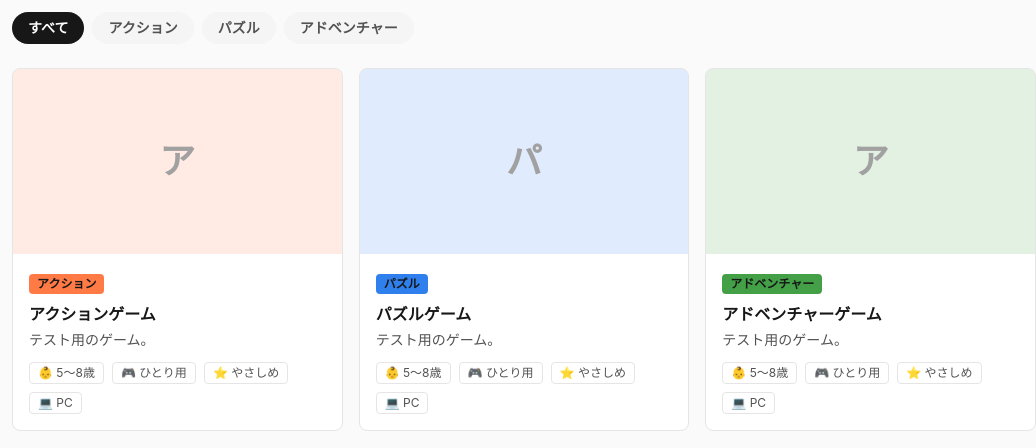
Test: GenreFilter › ジャンルタブを押すとそのジャンルのゲームだけ表示される
The image size is (1036, 448).
Click the button "パズル": coordinates (239, 28) [202, 12, 276, 44]
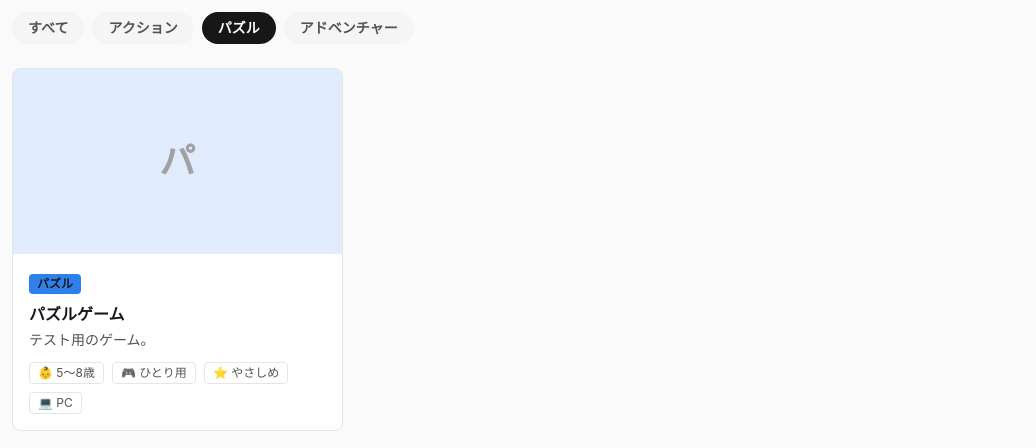
Expected: the heading "パズルゲーム" is shown, [29, 304, 124, 324]
Result: the link "アクションゲーム" is gone
Result: the link "アドベンチャーゲーム" is gone
